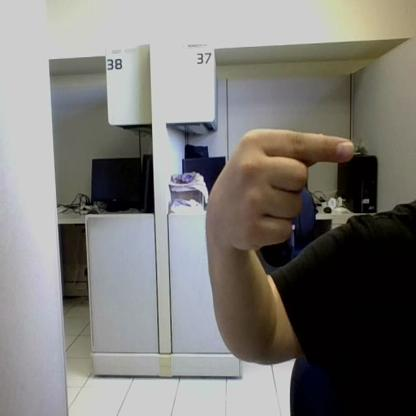G: (232, 129, 354, 250)
